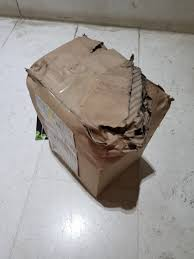damaged package: (88, 53, 154, 153)
